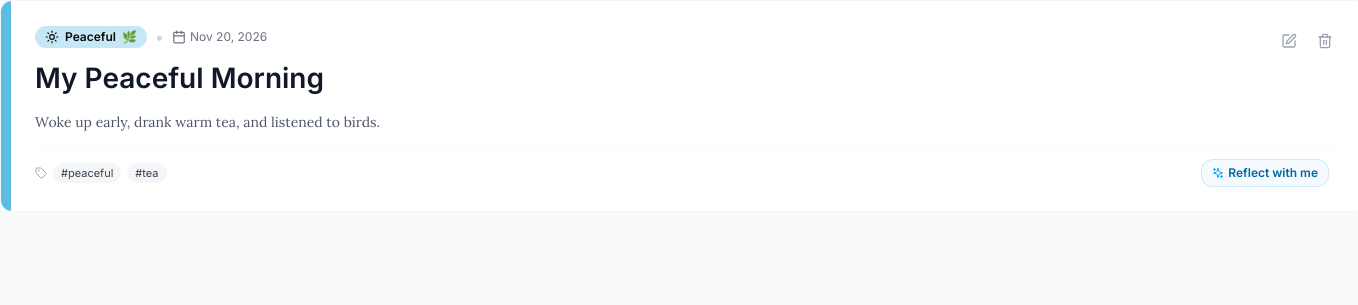
it: DiaryEntry "Reflect with me" Feature › renders "Reflect with me" button and handles AI-disabled error state with link to settings
The image size is (1358, 305).
Click the button "Reflect with me" at (1265, 173), box [1201,159,1329,187]
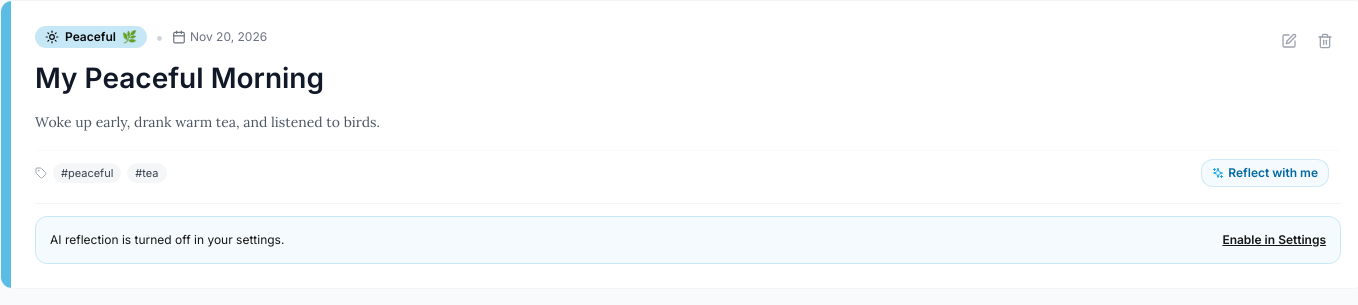
Expected: the text "AI reflection is turned off in your settings." is shown, [50,231,284,249]
Expected: the link "Enable in Settings" is shown, [1222,231,1326,249]
